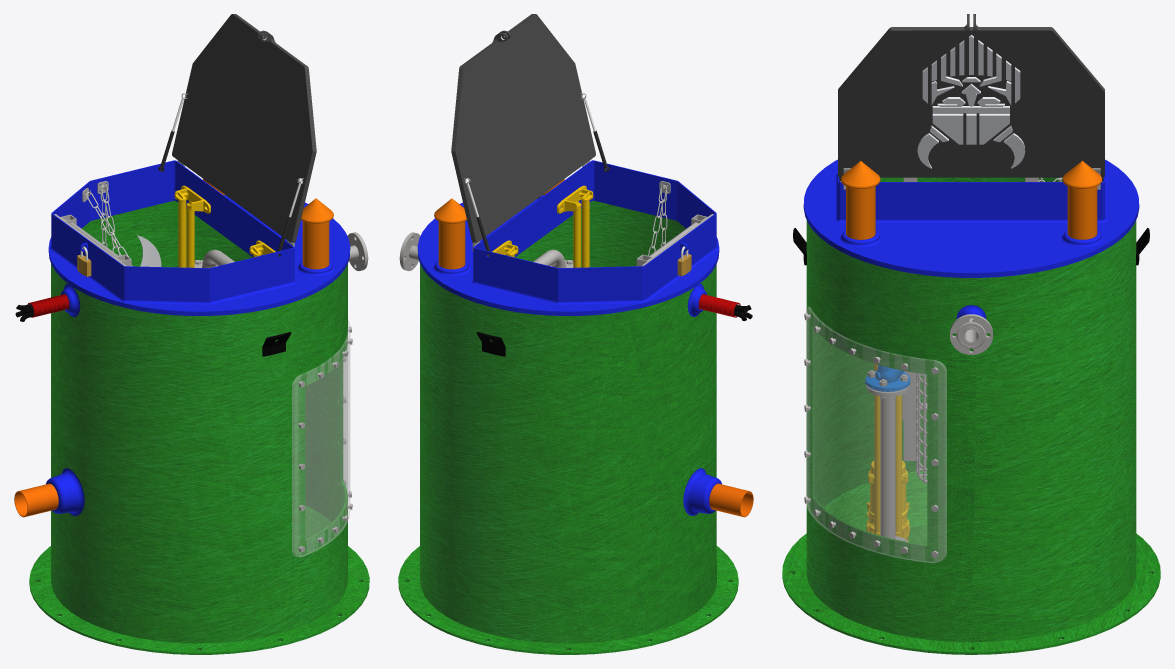
Rendered from KHC_expo_ONIS14.glb.
3 renders of one model, left to right at view 1: azimuth 30°, elevation 25°; view 2: azimuth 150°, elevation 25°; view 3: azimuth 270°, elevation 25°, orthographic. The views are drawn at different scales.
Parts seen in each view (by area): view 1: Твердое тело1 (×10), Solid1 (×2); view 2: Твердое тело1 (×8), Solid1 (×2); view 3: Твердое тело1 (×11), Solid1 (×4).
Part boxes in pixels (x1,y1,x2,y2): Твердое тело1 (×10): (15,14,369,654); Solid1 (×2): (14,221,329,517); Твердое тело1 (×8): (398,14,752,654); Solid1 (×2): (438,221,753,517); Твердое тело1 (×11): (782,14,1160,654); Solid1 (×4): (846,186,1097,539).
Size of the model in its own units: 1.62 by 2.43 by 1.4.
39 materials, 3 textured.
